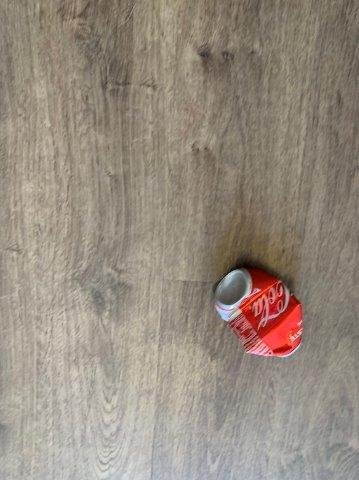kaleng: (219, 268, 304, 356)
